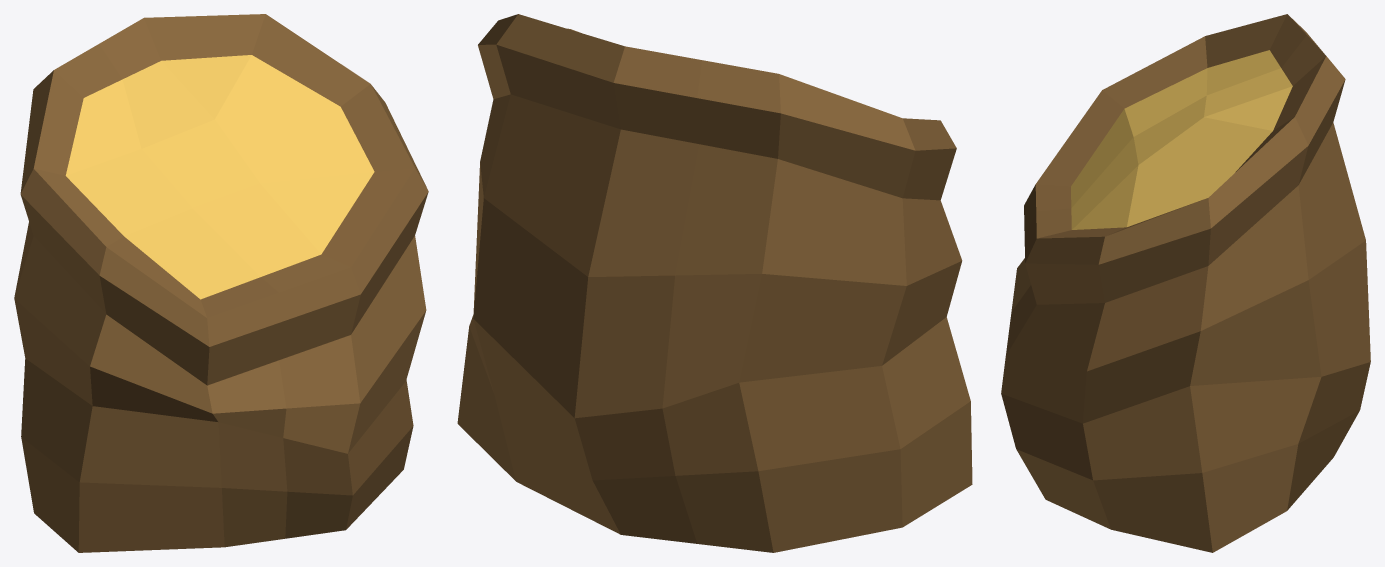
Rendered from flour_bag.fbx.
3 views of the same model, side by side, from view 1: azimuth 30°, elevation 25°; view 2: azimuth 150°, elevation 25°; view 3: azimuth 270°, elevation 25° (orthographic). The views are drawn at different scales.
Parts seen in each view (by area): view 1: Bag of flour; view 2: Bag of flour; view 3: Bag of flour.
Boxes of the visible parts, x1,y1,x2,y2 form: Bag of flour: [14, 14, 428, 552]; Bag of flour: [457, 14, 972, 552]; Bag of flour: [1001, 14, 1370, 552].
Bounding box in the file's own units: 140 × 149 × 119.
